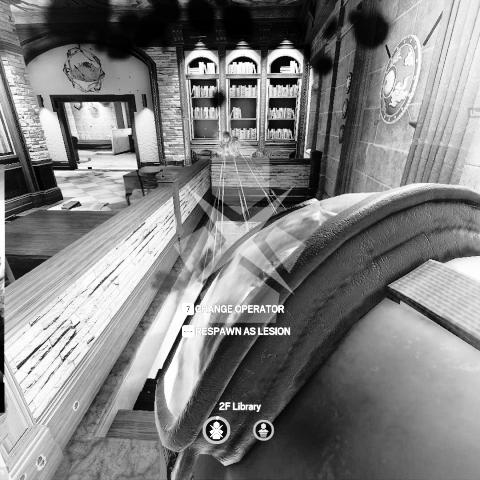Character: (217, 131, 242, 160)
Head: (222, 131, 232, 143)
